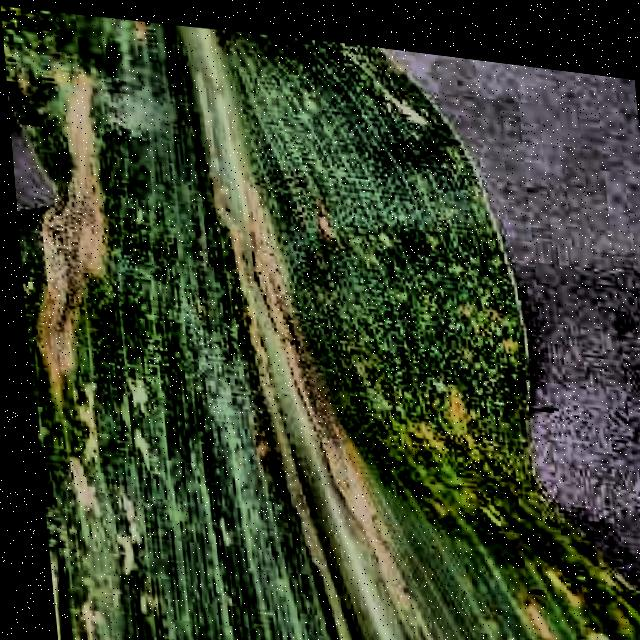blight: (4, 1, 622, 640)
